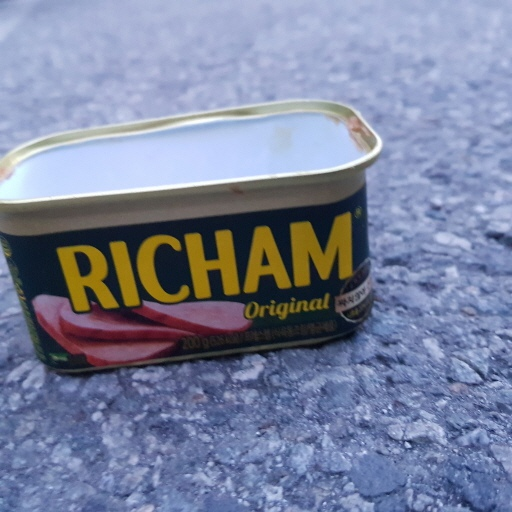Metal_2: (1, 97, 389, 377)
